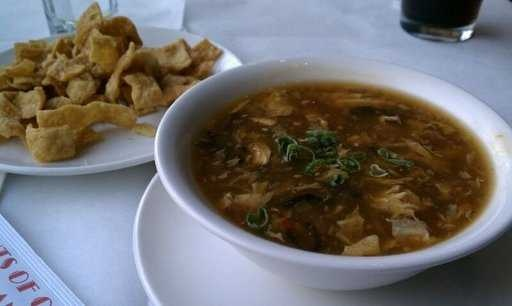soup: (166, 54, 500, 261)
